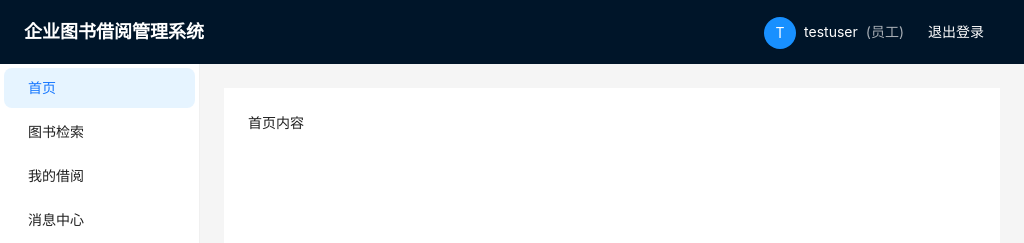
Scenario: Layout › navigates when menu item clicked
What coordinates should you click on to do the following:
click the menu item "图书检索"
I would click on:
 (56, 132)
Its box is [28,123,84,140].
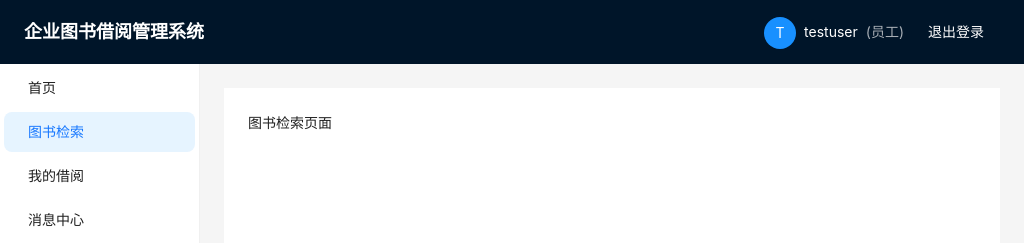
expect the text "图书检索页面" is shown: met, box [248,114,332,131]
